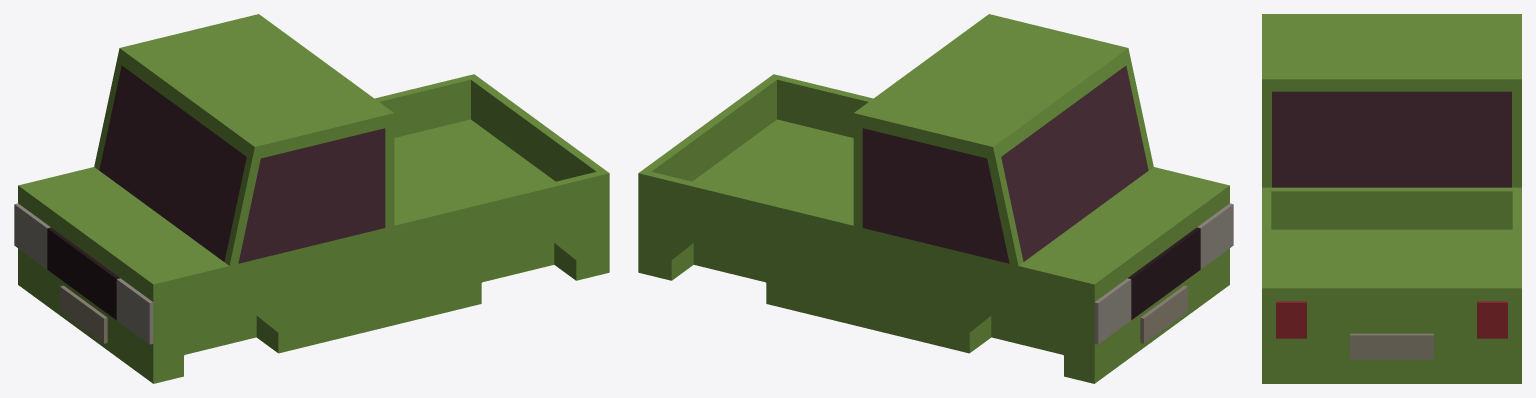
Rendered from Pickup_Green.fbx.
3 renders of one model, left to right at view 1: azimuth 30°, elevation 25°; view 2: azimuth 150°, elevation 25°; view 3: azimuth 270°, elevation 25°, orthographic. The views are drawn at different scales.
Visible parts, largest first — view 1: Pickup_Green, Pickup_Lights; view 2: Pickup_Green, Pickup_Lights; view 3: Pickup_Green, Pickup_Lights.
Part boxes in pixels (x1,y1,x2,y2): Pickup_Green: (18, 14, 609, 383); Pickup_Lights: (14, 203, 153, 344); Pickup_Green: (638, 14, 1229, 383); Pickup_Lights: (1094, 203, 1233, 344); Pickup_Green: (1262, 14, 1521, 383); Pickup_Lights: (1276, 301, 1507, 338).
Bounding box in the file's own units: 3.66 × 1.6 × 1.85.
